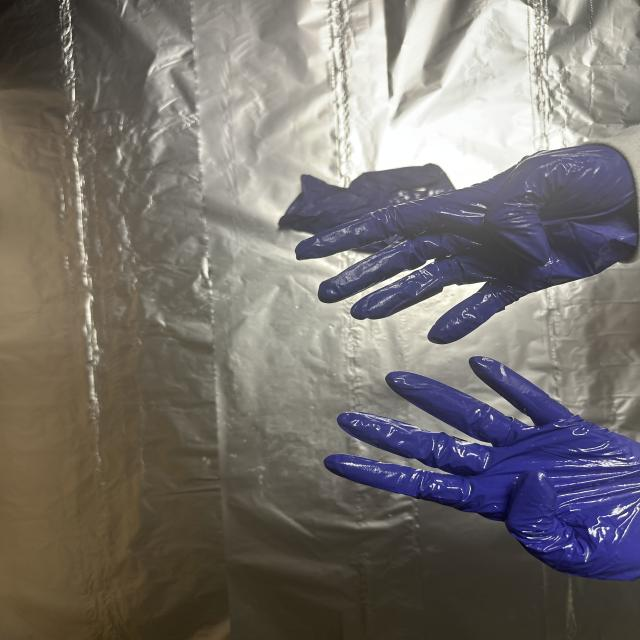gloves_contaminated: (325, 358, 640, 580), (296, 142, 638, 344)
